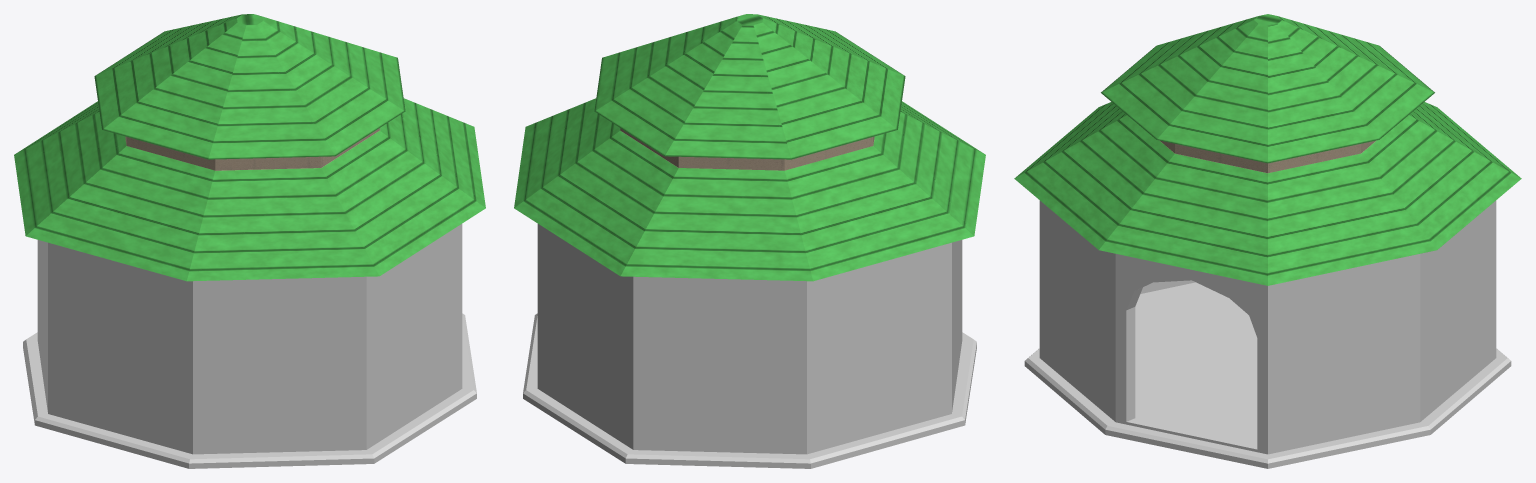
The model's file is HexHouse.fbx.
3 renders of one model, left to right at view 1: azimuth 30°, elevation 25°; view 2: azimuth 150°, elevation 25°; view 3: azimuth 270°, elevation 25°, orthographic. The views are drawn at different scales.
Visible parts, largest first — view 1: Roof.002, Body.006; view 2: Roof.002, Body.006; view 3: Roof.002, Body.006.
Part boxes in pixels (bbox=[...]): Roof.002: bbox=[14, 14, 485, 281]; Body.006: bbox=[23, 224, 476, 468]; Roof.002: bbox=[514, 14, 985, 281]; Body.006: bbox=[523, 224, 976, 468]; Roof.002: bbox=[1014, 14, 1521, 285]; Body.006: bbox=[1024, 200, 1511, 468].
Bounding box in the file's own units: 333 × 251 × 333.
